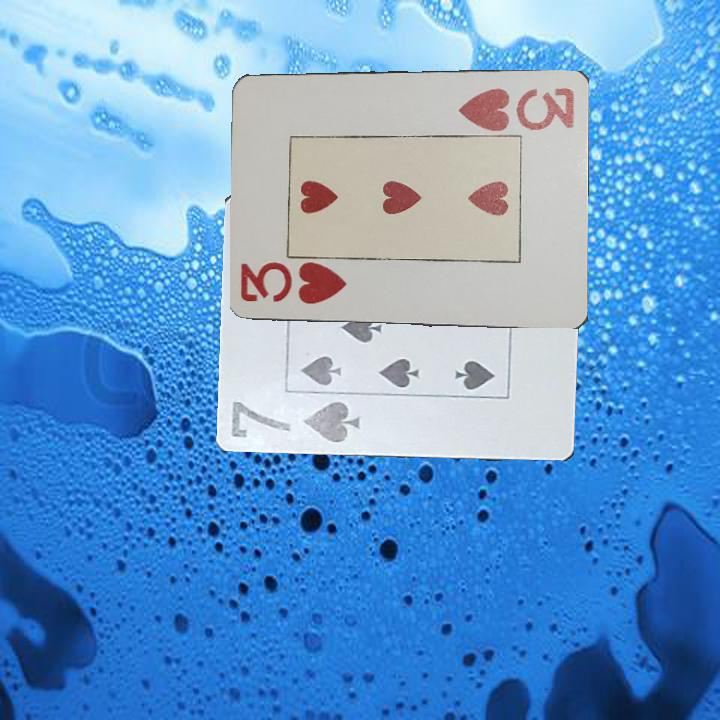3h: (455, 84, 577, 132), (238, 263, 350, 307)
7s: (225, 395, 363, 445)
